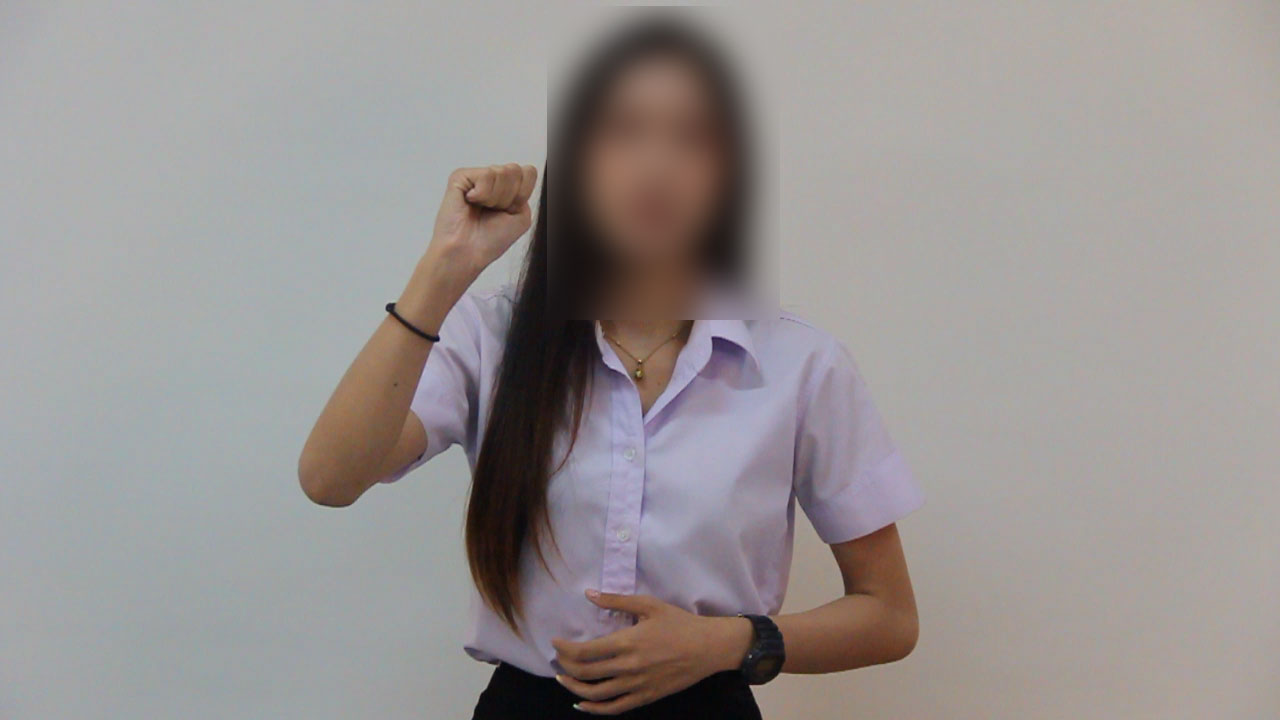sor: (417, 153, 541, 293)
